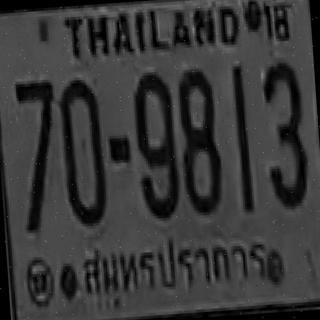N00: (57, 76, 108, 224)
N01: (229, 63, 252, 202)
N03: (260, 59, 308, 205)
N07: (13, 76, 62, 228), (13, 76, 58, 172)
N08: (176, 65, 222, 214)
N09: (131, 68, 179, 216)
P57: (74, 221, 280, 307)
